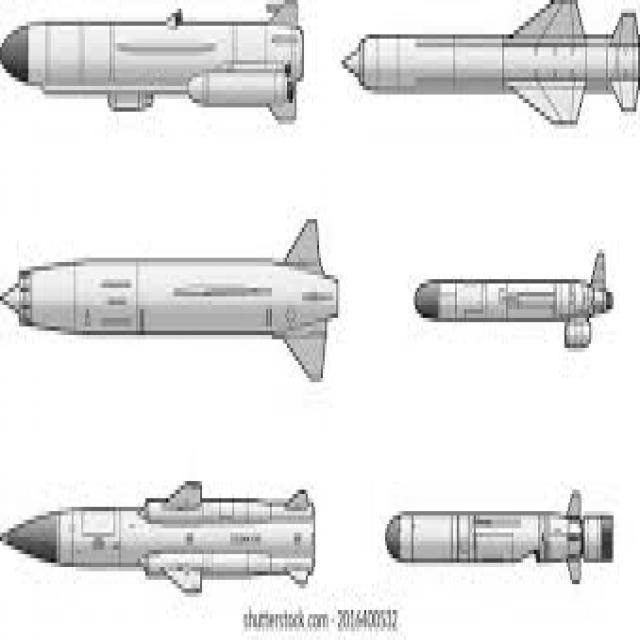Missile: (0, 201, 344, 400), (339, 0, 637, 168), (0, 467, 322, 603), (0, 0, 308, 139), (410, 229, 628, 365), (385, 488, 628, 592)
